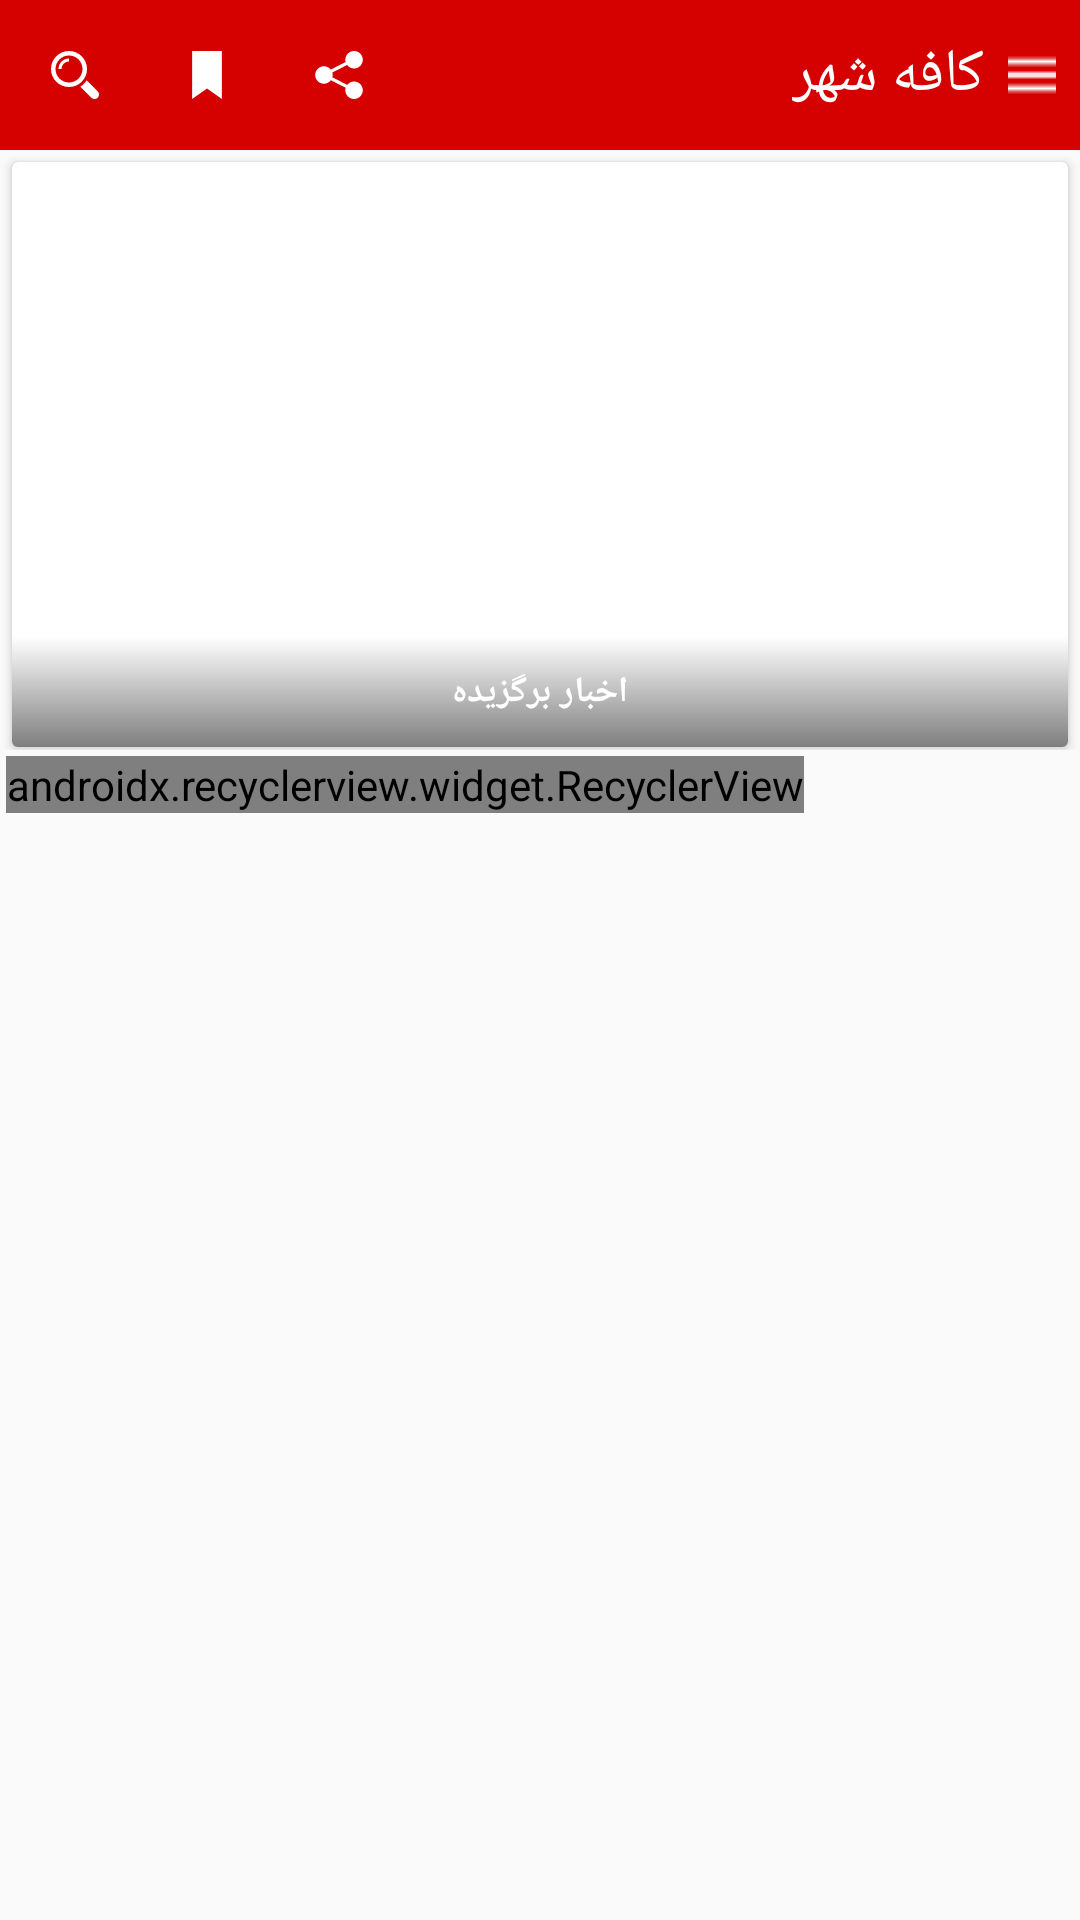

Icons on this 1080×1920 Android screen, each with its box as (x1, y1, x2, y2):
bookmark: (192, 51, 222, 99)
menu: (1008, 56, 1056, 94)
search: (51, 51, 99, 99)
share: (315, 51, 363, 99)
